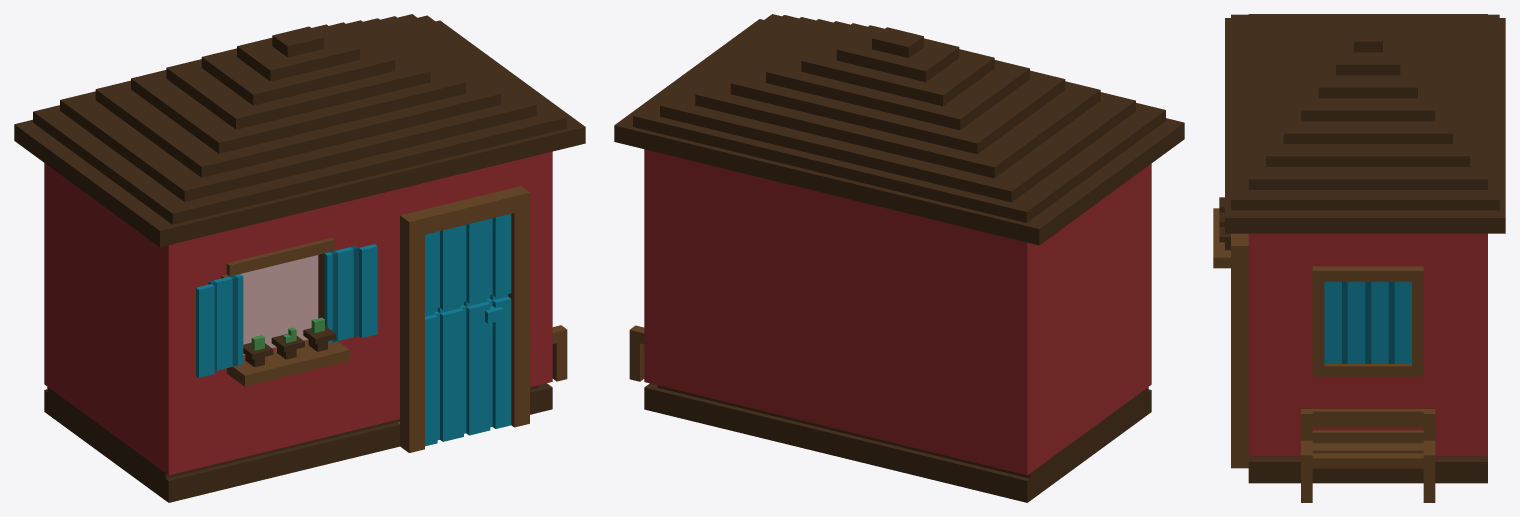
Rendered from 9_0 casa.obj.
3 renders of one model, left to right at view 1: azimuth 30°, elevation 25°; view 2: azimuth 150°, elevation 25°; view 3: azimuth 270°, elevation 25°, orthographic. The views are drawn at different scales.
Size of the model in its own units: 8.5 by 6.8 by 5.
1 material, 1 textured.
